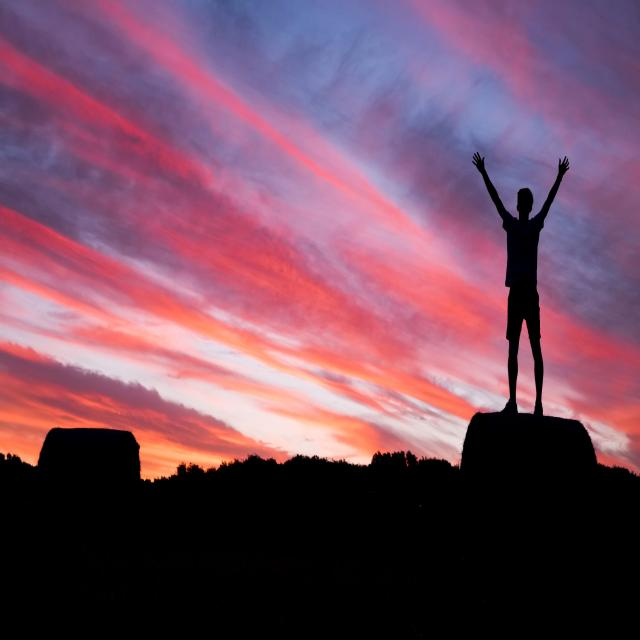adult: (471, 150, 569, 420)
